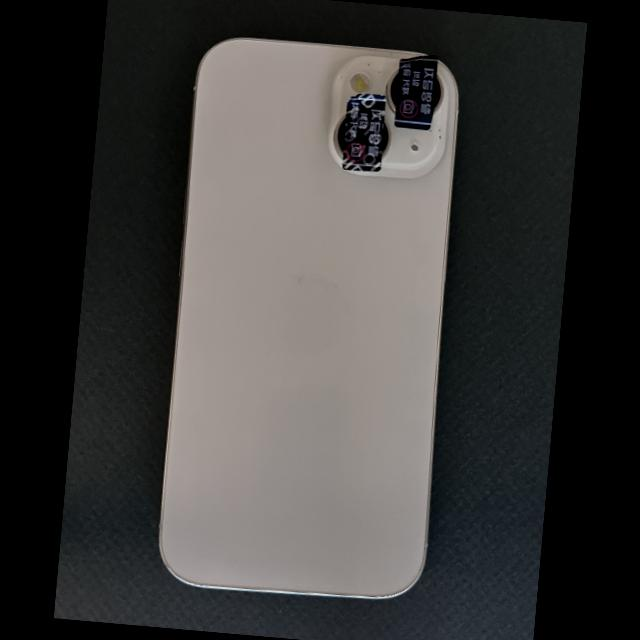lens: (332, 115, 344, 157), (432, 73, 443, 114)
phone: (157, 36, 459, 599)
sticker: (341, 93, 386, 172), (392, 55, 438, 131)
